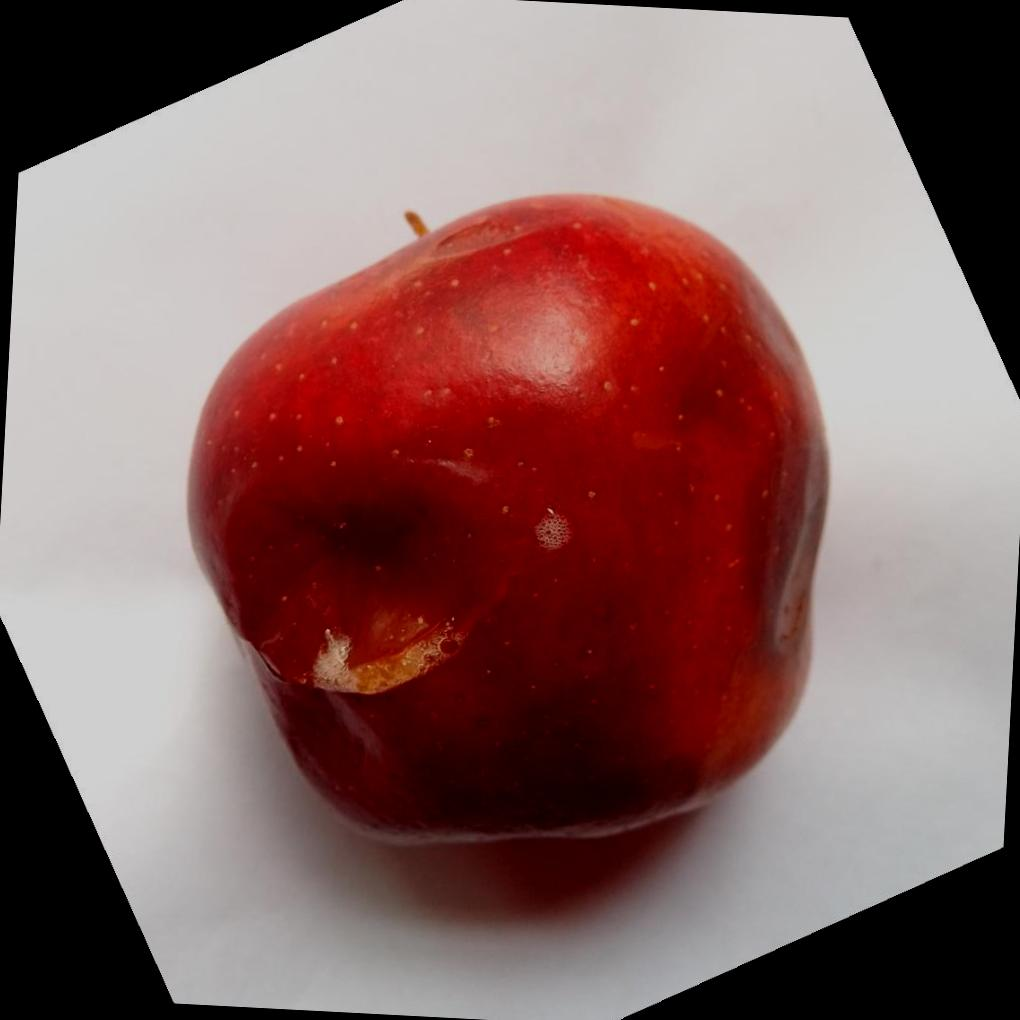FreshOrange: (179, 189, 829, 847)
